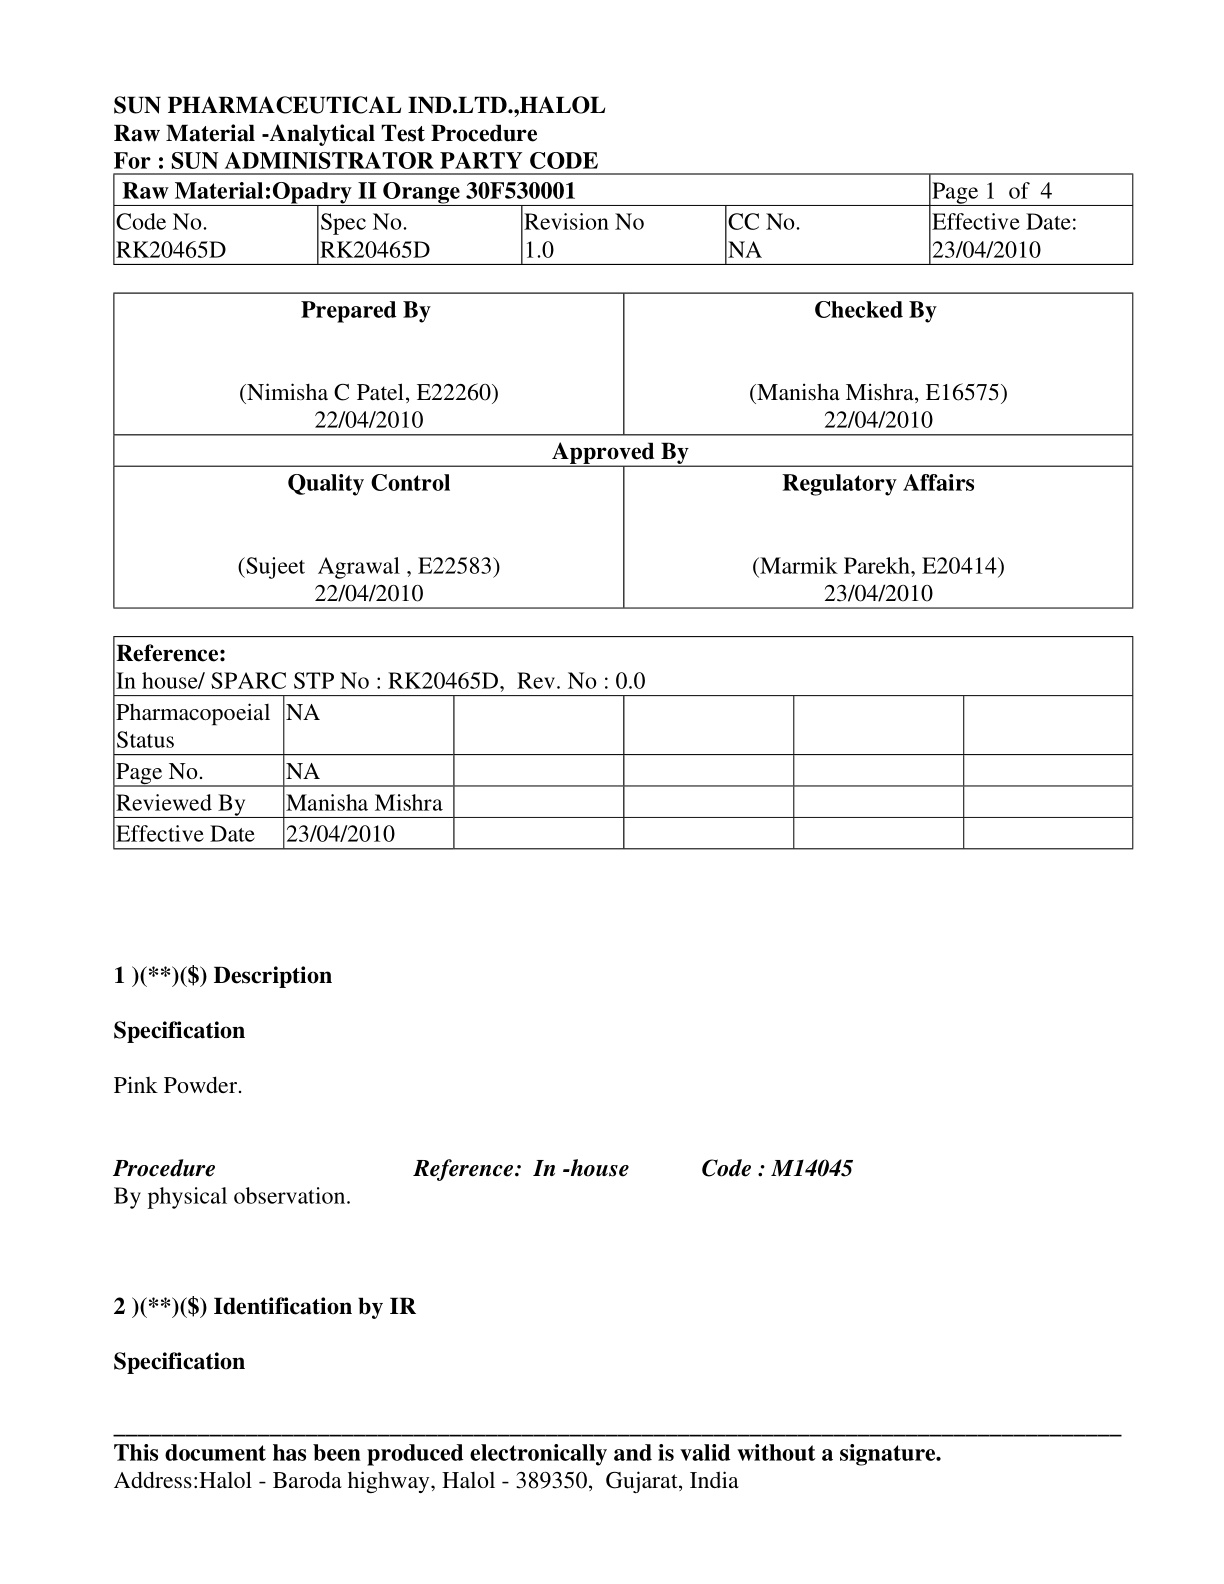merged_cells: (111, 291, 1134, 609), (112, 635, 1134, 850), (111, 171, 1133, 265)
